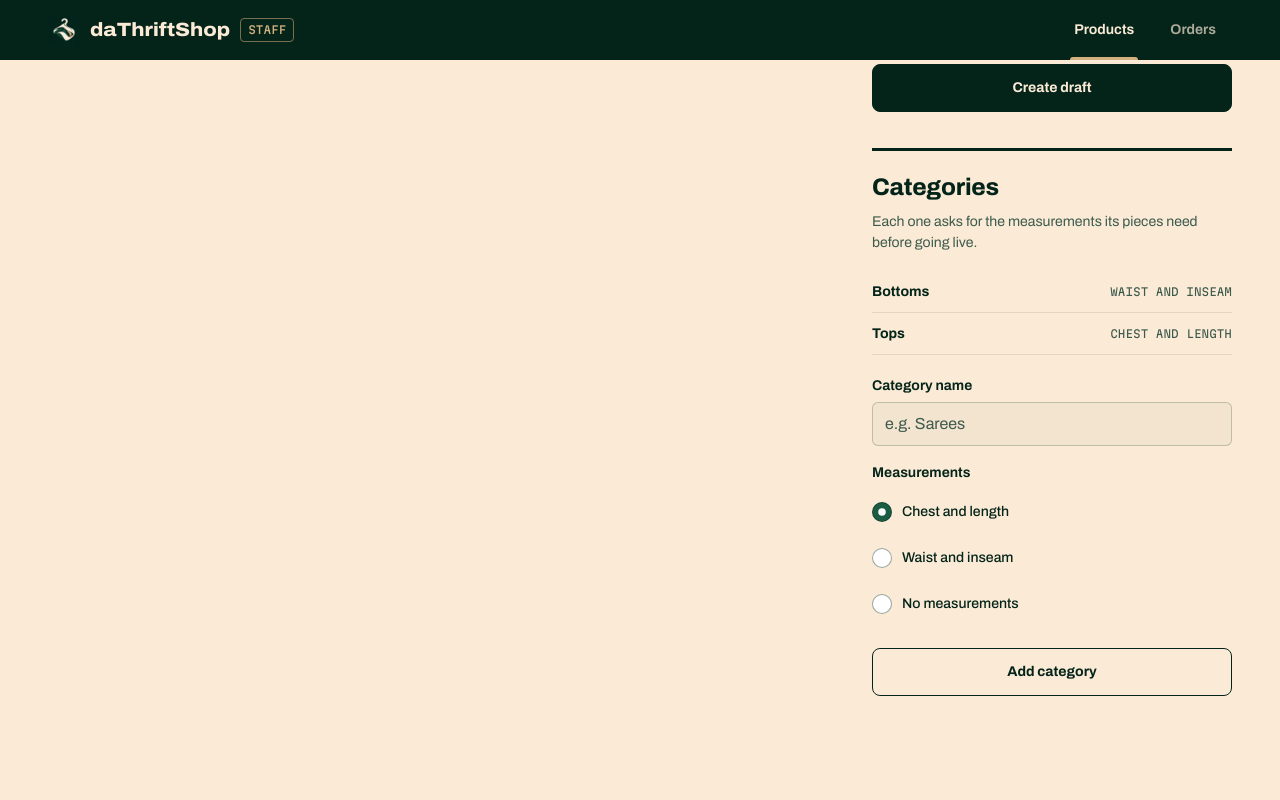
adds a category with its measurements and picks it for the next draft
(page scrolled)
Expected: the text "Waist and inseam" below "Category name" is shown, [902,550,1014,565]
In the field labelled "Category name": (1052, 424) [872,402,1232,446], type "Sarees"
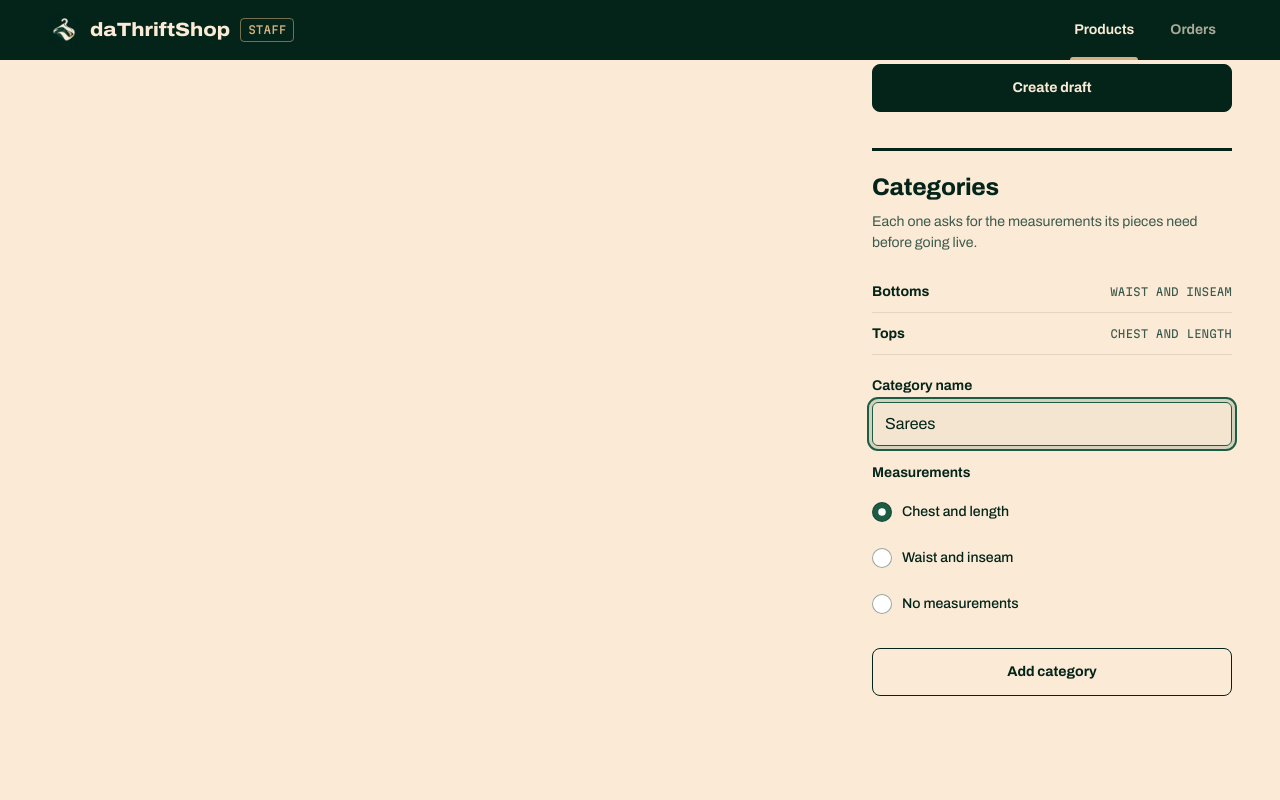
Click the radio button labelled "No measurements": (882, 604) [872,594,892,614]
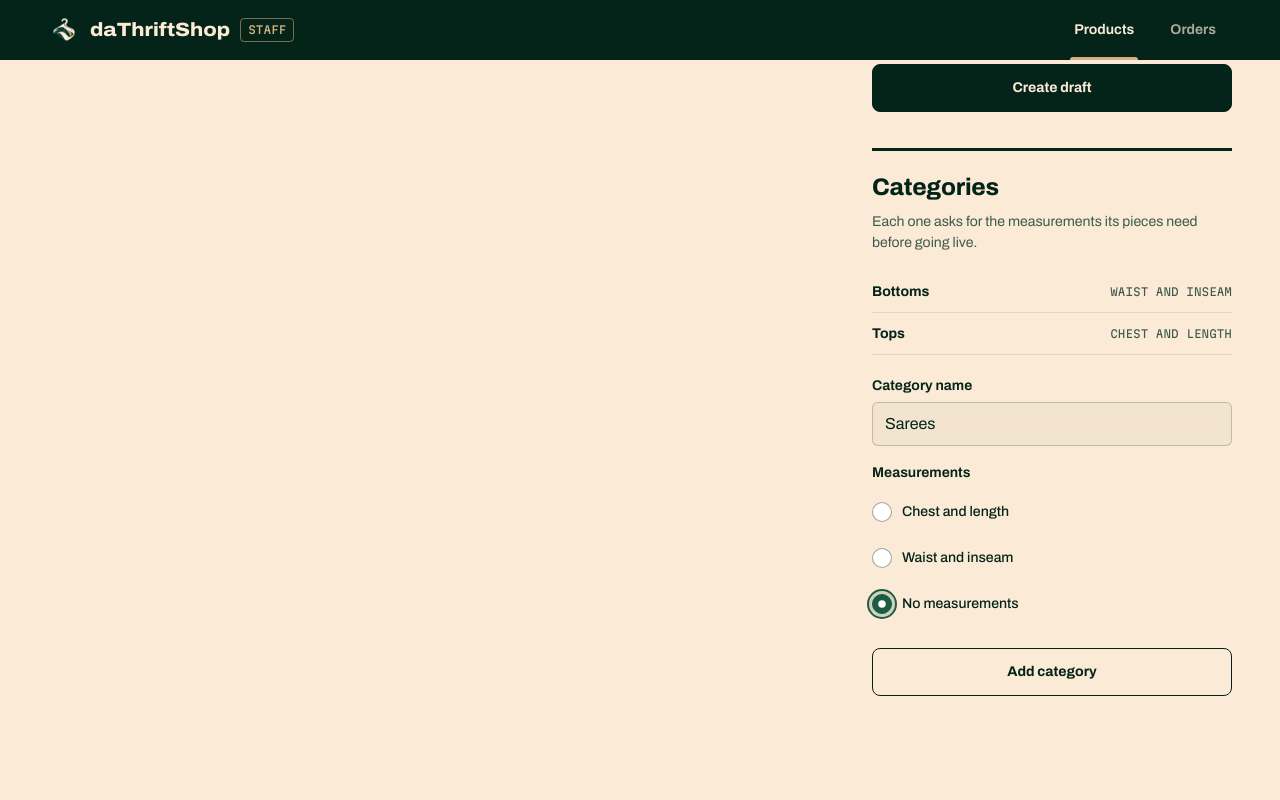
Click the button "Add category": (1052, 672) [872,648,1232,696]
(page scrolled)
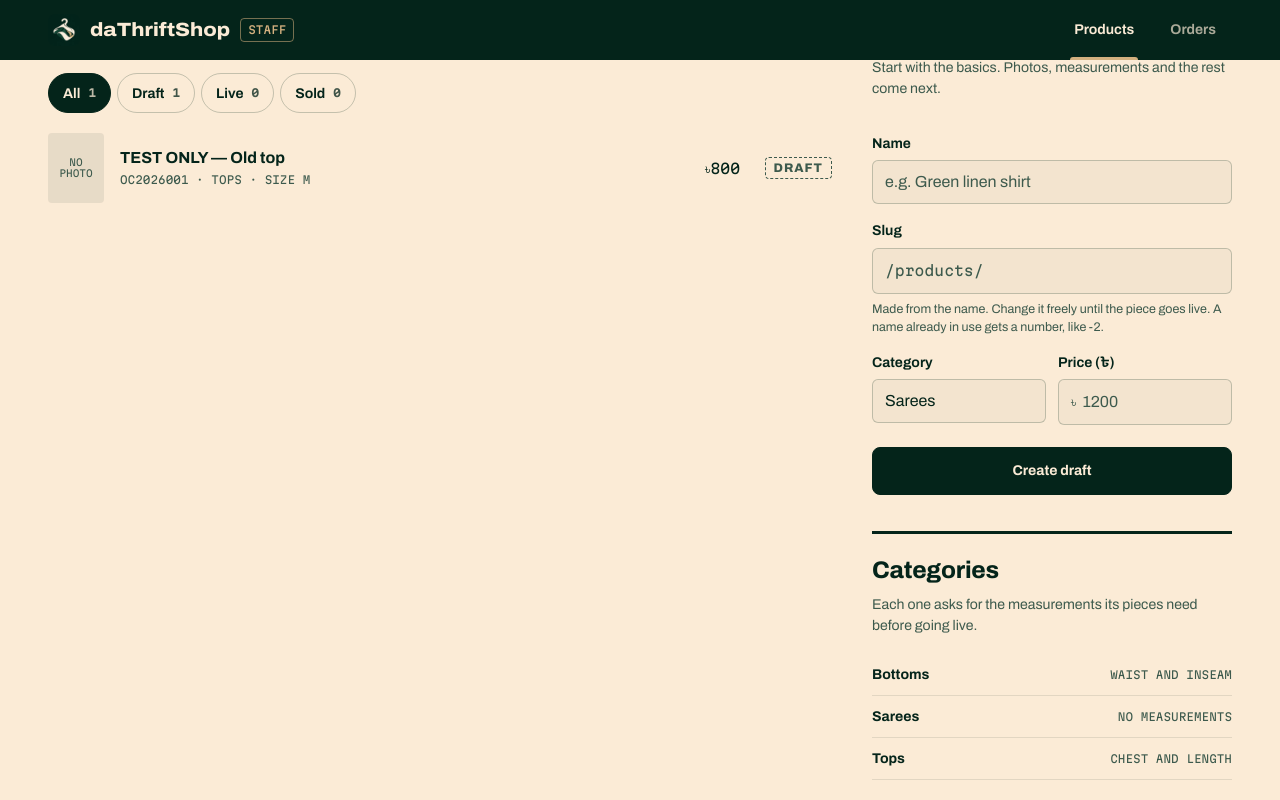
Expected: the dropdown labelled "Category" shows "Sarees", [872,379,1046,423]
